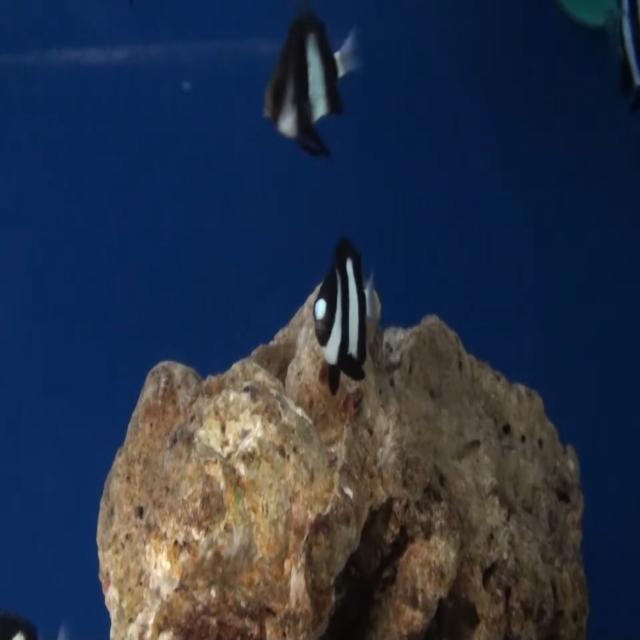ThreeStripedDamselfish: (263, 12, 359, 158), (312, 238, 380, 381)
